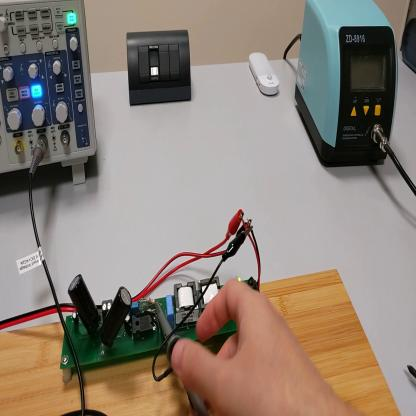hand: (172, 278, 322, 415)
high voltage board: (50, 220, 269, 373)
oscilloscope: (2, 4, 97, 183)
oscilloscope probe tip: (151, 300, 205, 414)
screwdriver-: (408, 364, 416, 380)
socket: (404, 20, 416, 75)
welder station: (296, 3, 400, 171)
working area: (1, 272, 402, 416)
